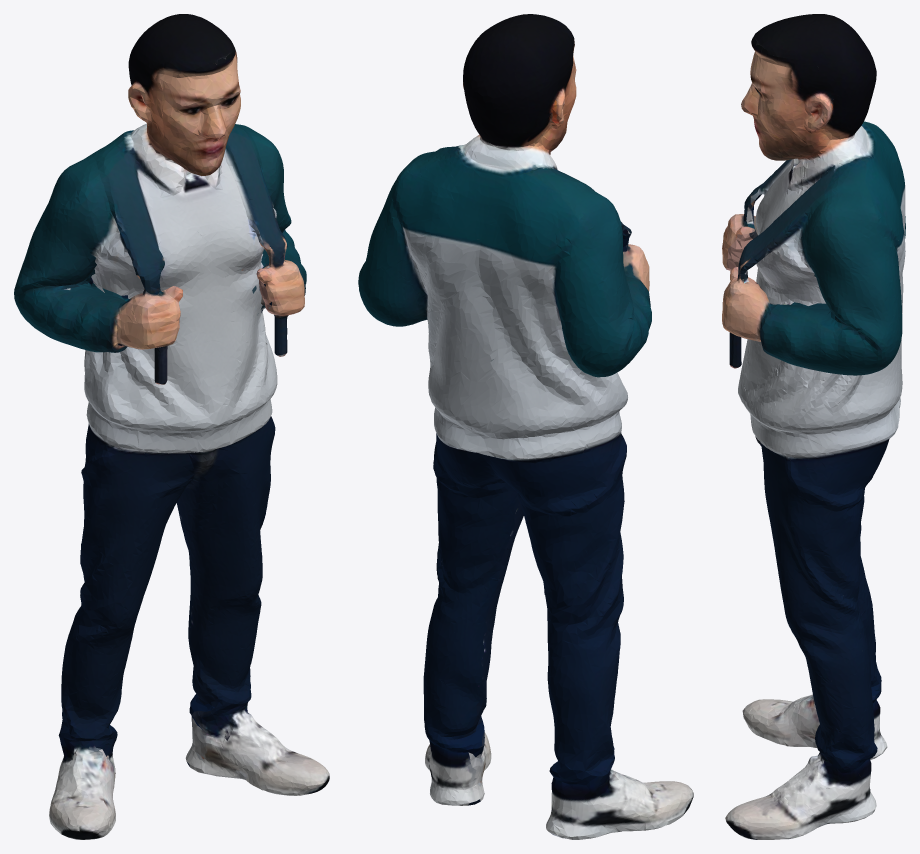
The model's file is h3t_fullbody_0001.glb.
3 views of the same model, side by side, from view 1: azimuth 30°, elevation 25°; view 2: azimuth 150°, elevation 25°; view 3: azimuth 270°, elevation 25° (orthographic).
Visible parts, largest first — view 1: geometry_0; view 2: geometry_0; view 3: geometry_0.
Part boxes in pixels (x1,y1,x2,y2): geometry_0: (14, 14, 329, 839); geometry_0: (358, 14, 693, 839); geometry_0: (722, 14, 905, 839).
Size of the model in its own units: 0.7397 by 1.99 by 0.4307.
1 material, 1 textured.
